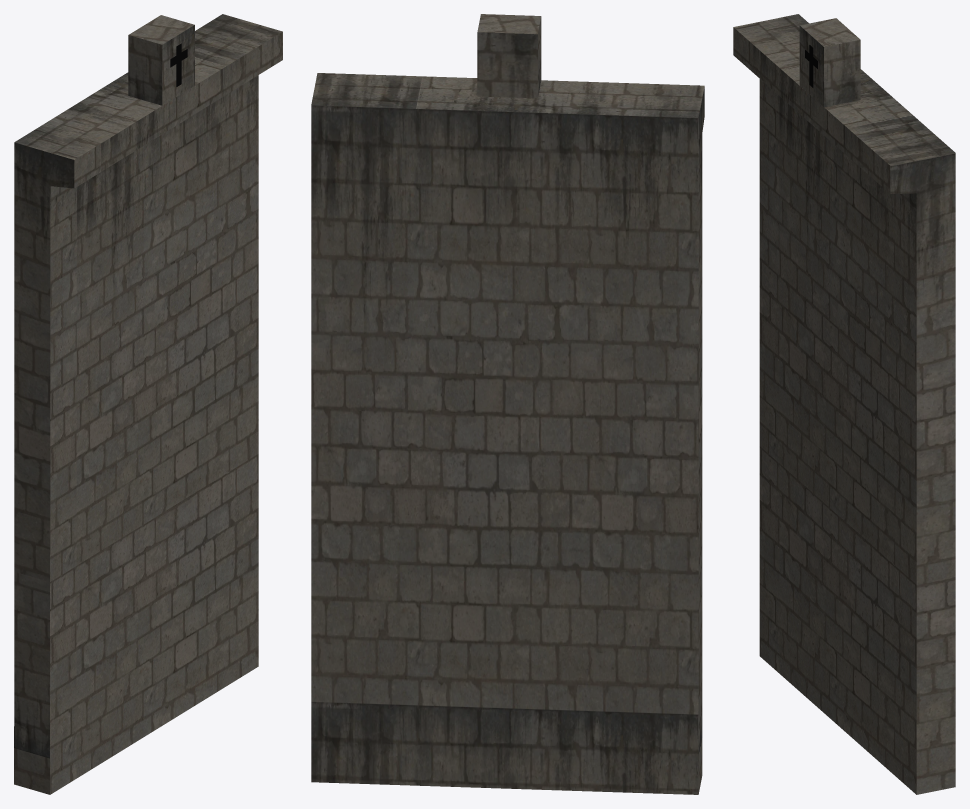
File: Castle_Boundary_Wall_3.glb
3 renders of one model, left to right at view 1: azimuth 30°, elevation 25°; view 2: azimuth 150°, elevation 25°; view 3: azimuth 270°, elevation 25°, orthographic. The views are drawn at different scales.
Visible parts, largest first — view 1: Castle_Boundary_Wall_3; view 2: Castle_Boundary_Wall_3; view 3: Castle_Boundary_Wall_3.
Part boxes in pixels (x1,y1,x2,y2): Castle_Boundary_Wall_3: (14, 14, 282, 794); Castle_Boundary_Wall_3: (311, 14, 704, 794); Castle_Boundary_Wall_3: (733, 14, 955, 794).
Size of the model in its own units: 8.46 by 18.03 by 5.23.
2 materials, 1 textured.
